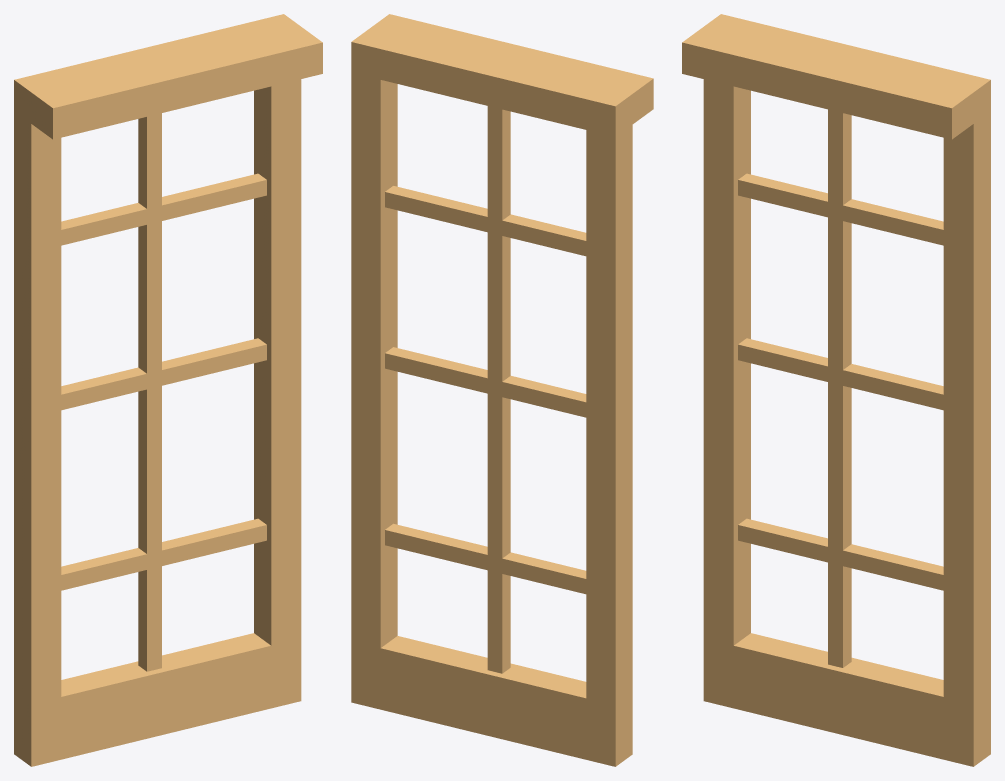
Rendered from scene_OJnhCDdFha.glb.
The picture shows the model from 3 angles, left to right: view 1: azimuth 30°, elevation 25°; view 2: azimuth 150°, elevation 25°; view 3: azimuth 330°, elevation 25°; orthographic projection. The views are drawn at different scales.
Parts seen in each view (by area): view 1: group235189032, group2080287348, group172669087, group1678937561, group912478583, group2023791167, group606049185, group1961403710; view 2: group235189032, group2080287348, group172669087, group1678937561, group912478583, group1961403710, group606049185, group2023791167; view 3: group2080287348, group235189032, group172669087, group1678937561, group912478583, group606049185, group2023791167, group1961403710.
Part boxes in pixels (left/top/right/bottom): group235189032: left=14, top=96, right=61, bottom=715; group2080287348: left=254, top=14, right=301, bottom=645; group172669087: left=14, top=633, right=301, bottom=766; group1678937561: left=14, top=15, right=322, bottom=139; group912478583: left=138, top=113, right=161, bottom=671; group2023791167: left=18, top=338, right=266, bottom=418; group606049185: left=18, top=173, right=266, bottom=253; group1961403710: left=18, top=518, right=266, bottom=598; group235189032: left=586, top=112, right=632, bottom=715; group2080287348: left=351, top=29, right=397, bottom=647; group172669087: left=351, top=636, right=632, bottom=766; group1678937561: left=351, top=14, right=653, bottom=136; group912478583: left=487, top=106, right=510, bottom=673; group1961403710: left=385, top=523, right=628, bottom=602; group606049185: left=385, top=186, right=628, bottom=263; group2023791167: left=385, top=347, right=628, bottom=423; group2080287348: left=943, top=72, right=990, bottom=703; group235189032: left=703, top=79, right=750, bottom=656; group172669087: left=703, top=633, right=990, bottom=766; group1678937561: left=682, top=14, right=990, bottom=139; group912478583: left=828, top=109, right=851, bottom=667; group606049185: left=738, top=173, right=943, bottom=245; group2023791167: left=738, top=338, right=943, bottom=410; group1961403710: left=738, top=518, right=943, bottom=590.
Bounding box in the file's own units: 0.36 × 0.86 × 0.09.
